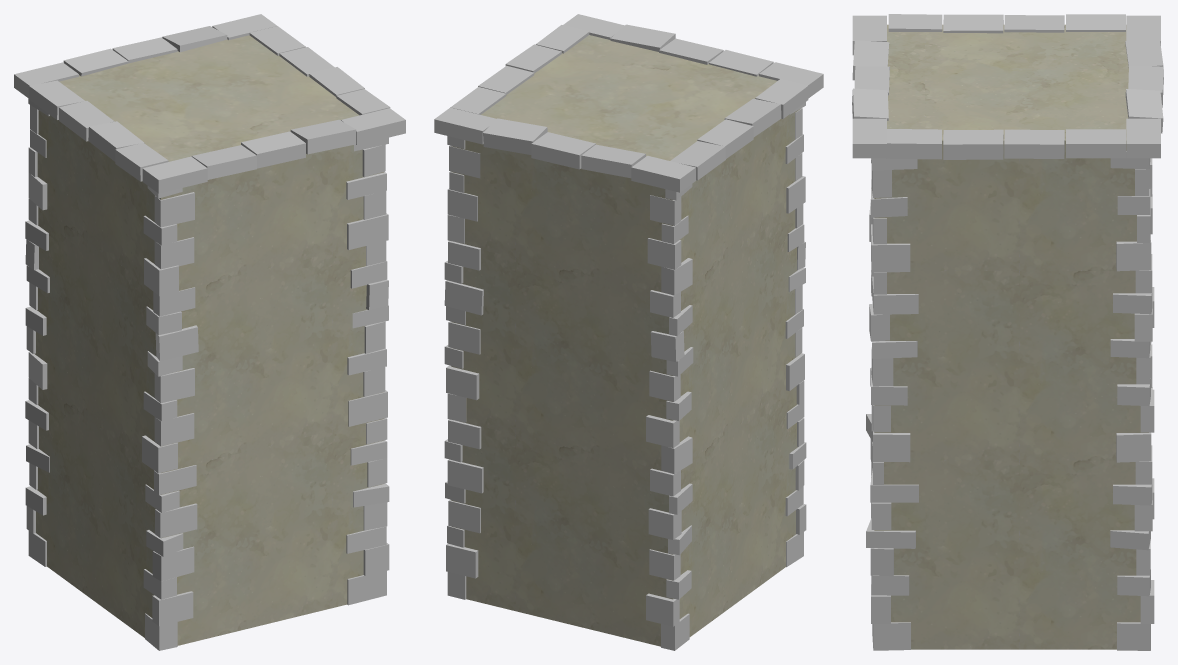
File: A_TowerSmall_Floor_D.fbx
3 renders of one model, left to right at view 1: azimuth 30°, elevation 25°; view 2: azimuth 150°, elevation 25°; view 3: azimuth 270°, elevation 25°, orthographic. The views are drawn at different scales.
Parts seen in each view (by area): view 1: A_TowerSmall_Floor_D, A_TowerSmall_Floor_D_KitPart; view 2: A_TowerSmall_Floor_D, A_TowerSmall_Floor_D_KitPart; view 3: A_TowerSmall_Floor_D, A_TowerSmall_Floor_D_KitPart.
Part boxes in pixels (x1=…): A_TowerSmall_Floor_D: x1=34, y1=35, x2=384, y2=645; A_TowerSmall_Floor_D_KitPart: x1=14, y1=14, x2=405, y2=650; A_TowerSmall_Floor_D: x1=451, y1=35, x2=799, y2=646; A_TowerSmall_Floor_D_KitPart: x1=434, y1=14, x2=823, y2=650; A_TowerSmall_Floor_D: x1=874, y1=24, x2=1148, y2=649; A_TowerSmall_Floor_D_KitPart: x1=852, y1=14, x2=1163, y2=650.
Bounding box in the file's own units: 255 × 469 × 257.
